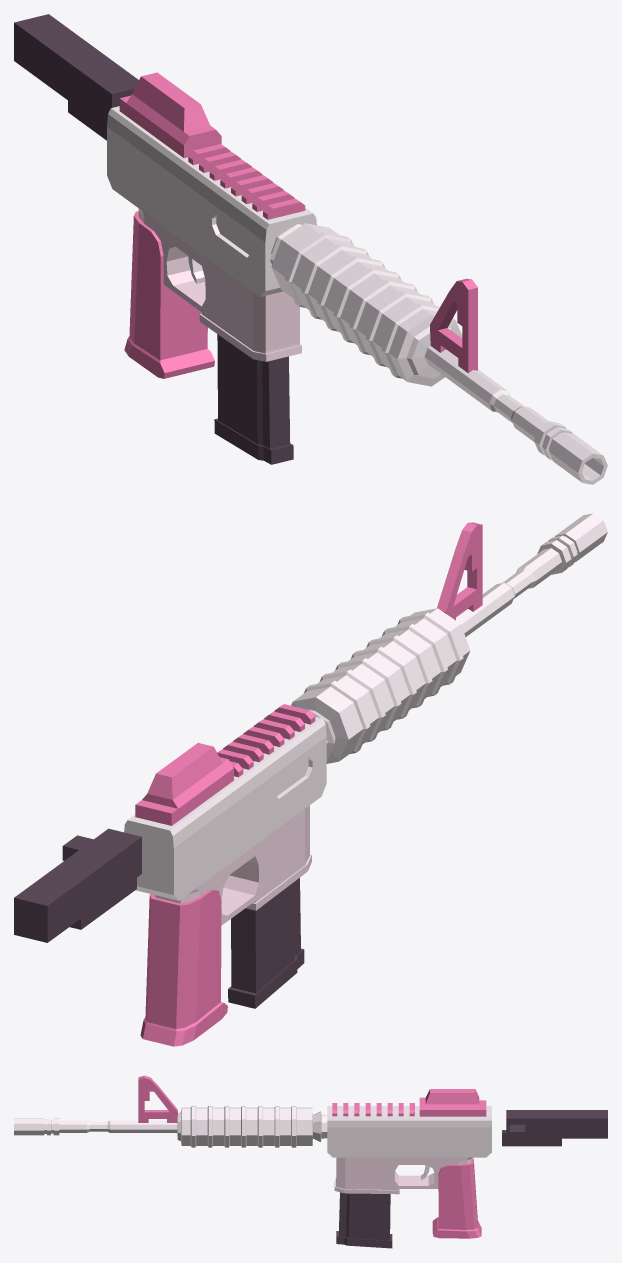
The model's file is AssaultRifle2_3.obj.
The picture shows the model from 3 angles, top to bottom: view 1: azimuth 30°, elevation 25°; view 2: azimuth 150°, elevation 25°; view 3: azimuth 270°, elevation 25°; orthographic projection. The views are drawn at different scales.
Parts seen in each view (by area): view 1: Body, Grip, Panel, Mag, Bolt; view 2: Body, Grip, Bolt, Mag, Panel, Hardware; view 3: Body, Grip, Panel, Bolt, Mag, Hardware.
Part boxes in pixels (x1,y1,x2,y2): Body: (107,106,607,484); Grip: (119,72,477,378); Panel: (138,208,301,361); Mag: (214,334,293,464); Bolt: (14,14,138,128); Body: (124,513,607,900); Grip: (135,522,482,1046); Bolt: (14,828,141,942); Mag: (228,878,304,1008); Panel: (155,805,311,925); Hardware: (70,878,136,929); Body: (14,1106,491,1179); Grip: (138,1075,486,1238); Panel: (334,1157,471,1194); Bolt: (506,1110,607,1139); Mag: (336,1192,392,1248); Hardware: (502,1130,561,1146).
Bounding box in the file's own units: 0.6477 × 2.14 × 6.84.
